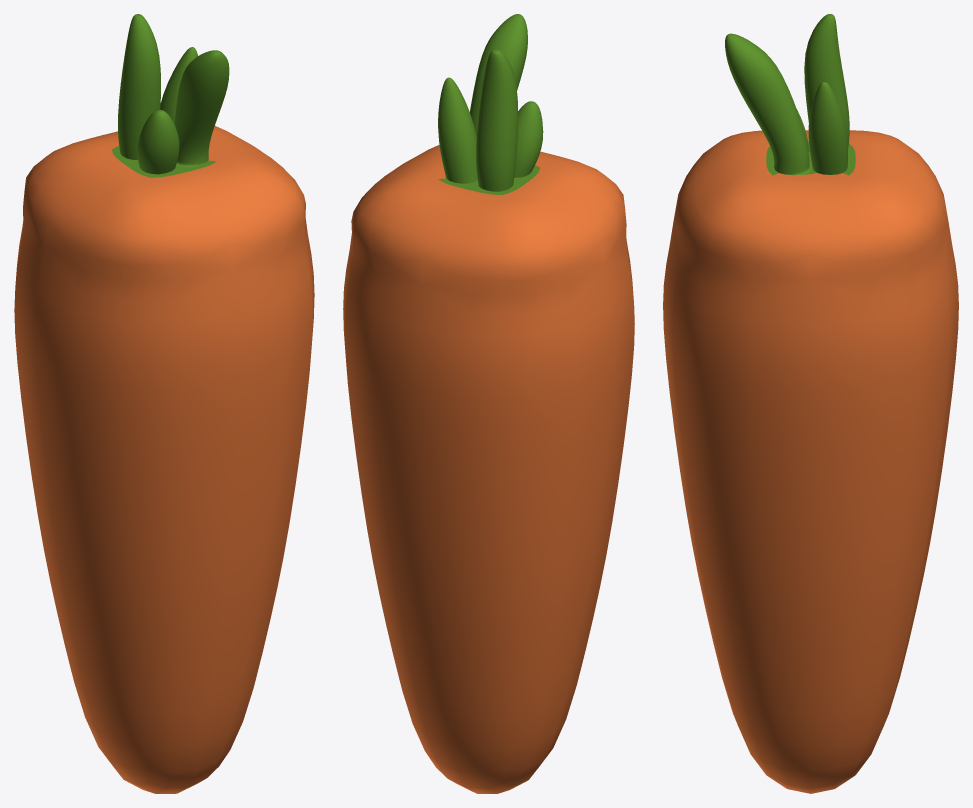
The model's file is Carrot.fbx.
3 renders of one model, left to right at view 1: azimuth 30°, elevation 25°; view 2: azimuth 150°, elevation 25°; view 3: azimuth 270°, elevation 25°, orthographic. The views are drawn at different scales.
Visible parts, largest first — view 1: carrot; view 2: carrot; view 3: carrot.
Boxes of the visible parts, x1=… form: carrot: x1=14, y1=14, x2=314, y2=793; carrot: x1=343, y1=14, x2=634, y2=793; carrot: x1=663, y1=14, x2=958, y2=793.
Bounding box in the file's own units: 0.5026 × 1.43 × 0.5026.
